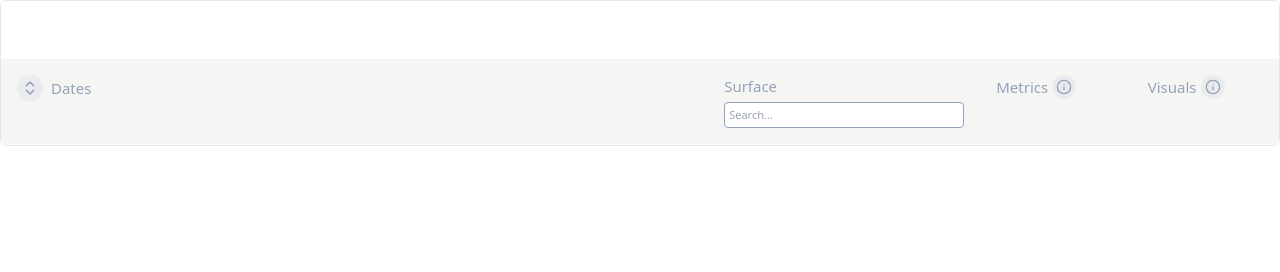
Scenario: MessageTable › ExperimentColumns › renders preview buttons for infobars
Click the button with test id "toggleAllRowsButton" at (30, 88), box [17, 75, 43, 101]
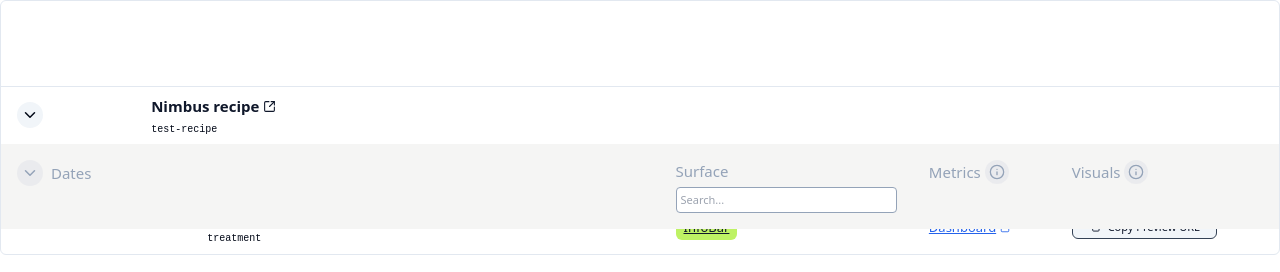
Result: the number of buttons "Copy Preview URL" is 1 at [1072, 215, 1217, 239]
